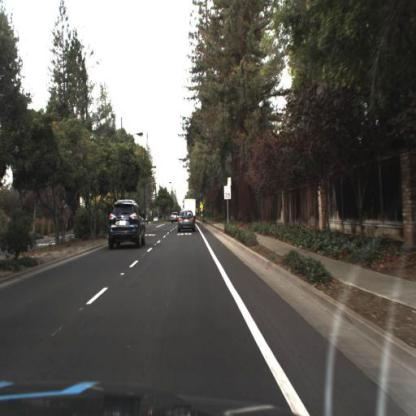car: (106, 198, 148, 252), (175, 208, 200, 237), (171, 210, 181, 227)
truck: (183, 196, 198, 218)
